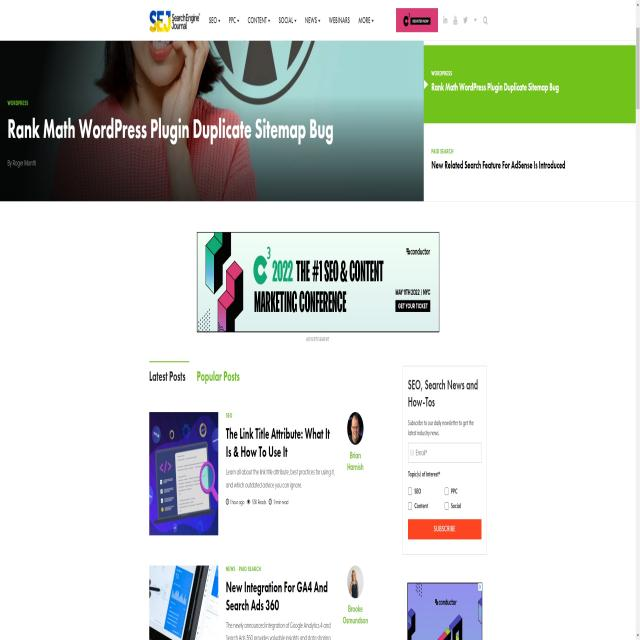menu-bar: (392, 2, 494, 36)
tab-bar: (200, 8, 379, 38), (146, 351, 246, 394)
